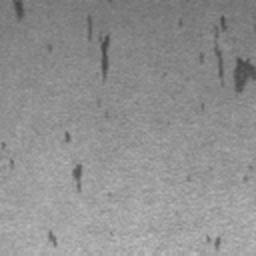Red iron sheet: (198, 14, 256, 93), (87, 14, 111, 84), (70, 163, 83, 189), (10, 0, 26, 20), (46, 229, 58, 247), (61, 131, 72, 143), (214, 234, 221, 251), (178, 18, 186, 28), (9, 157, 14, 169)
